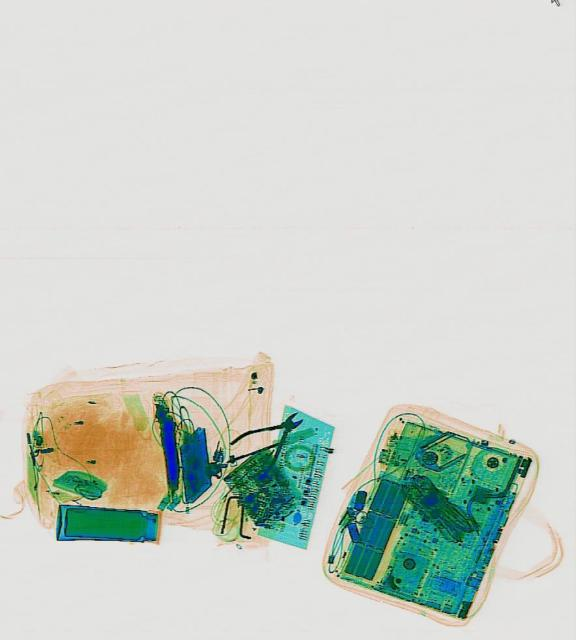Pliers: (225, 397, 315, 481)
